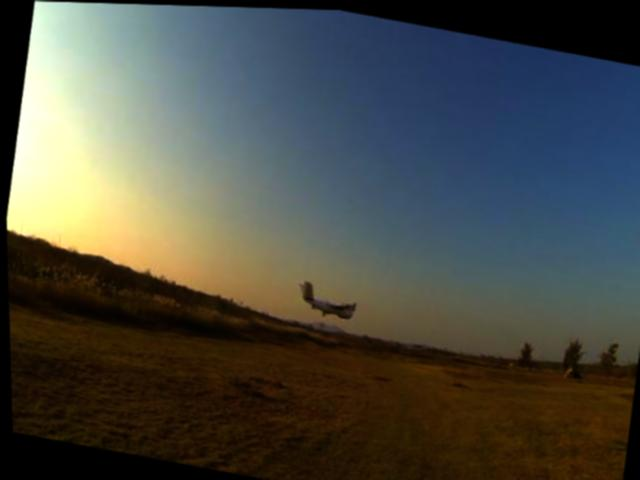uav: (287, 266, 373, 329)
